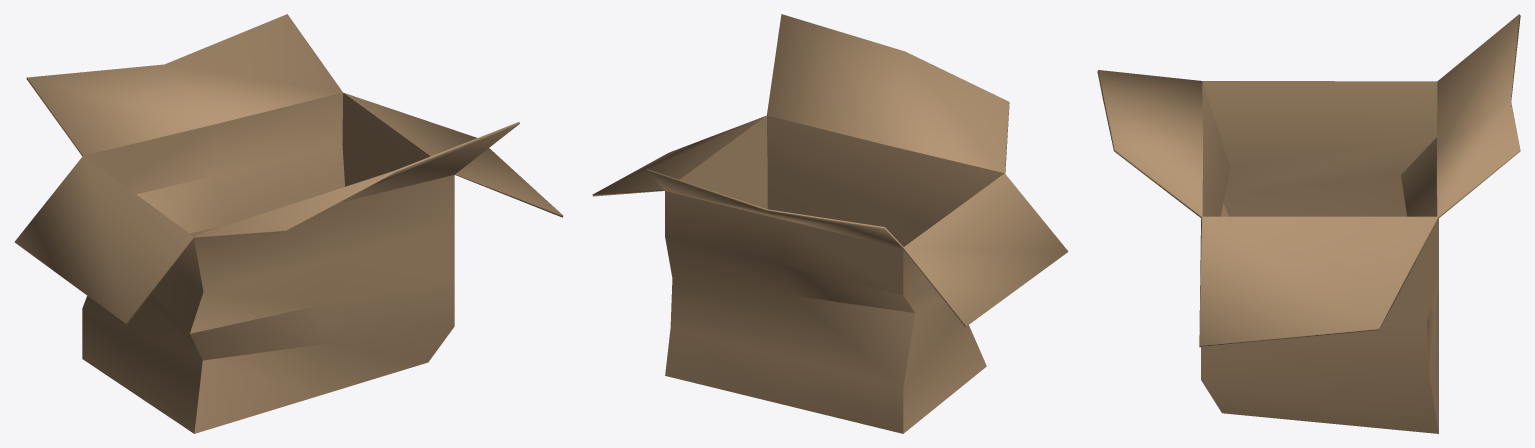
File: cajaDestruida.glb
3 views of the same model, side by side, from view 1: azimuth 30°, elevation 25°; view 2: azimuth 150°, elevation 25°; view 3: azimuth 270°, elevation 25° (orthographic). The views are drawn at different scales.
Visible parts, largest first — view 1: Cube; view 2: Cube; view 3: Cube.
Part boxes in pixels (x1,y1,x2,y2): Cube: (14,14,563,433); Cube: (592,14,1068,433); Cube: (1097,14,1520,433).
Size of the model in its own units: 2.32 by 1.43 by 1.83.
